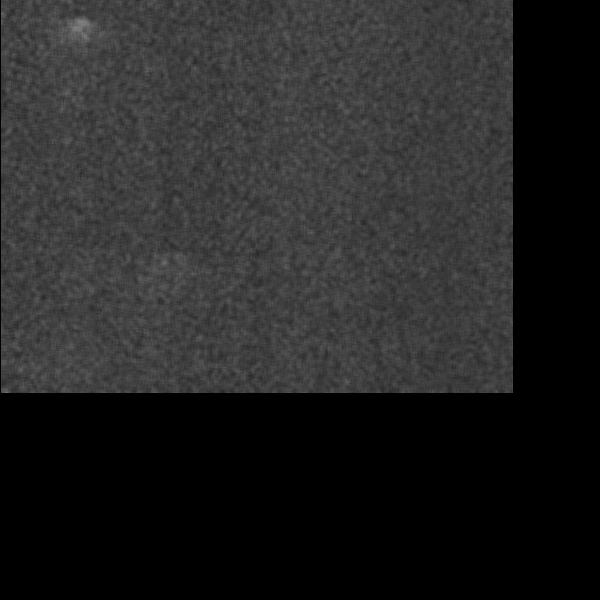spark: (58, 12, 99, 65)
